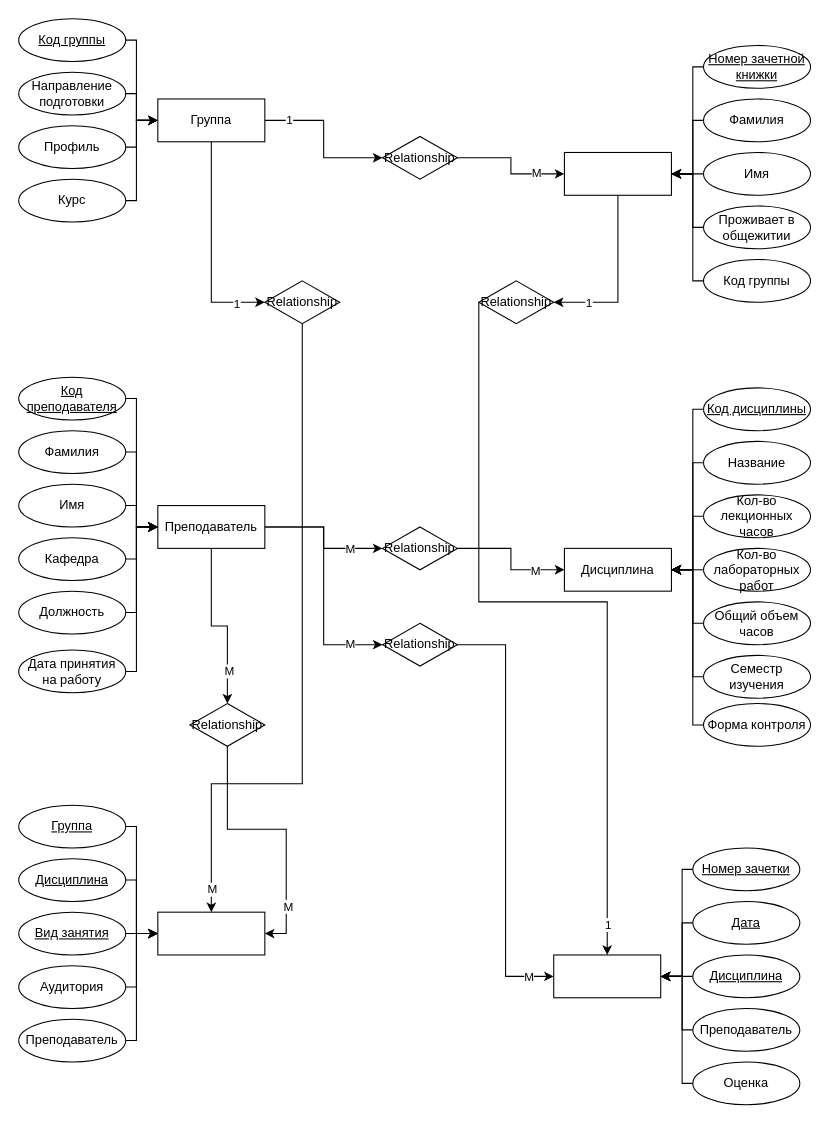
The diagram is 829 pixels wide and 1124 high, and some of its shapes have lost their labels. The shapes that lost their labels are listed below. From the top down, each one's centre as x and y in pixels, then its label:
At (x=617, y=173): "Студент".
At (x=211, y=933): "Занятие".
At (x=607, y=976): "Успеваемость".
